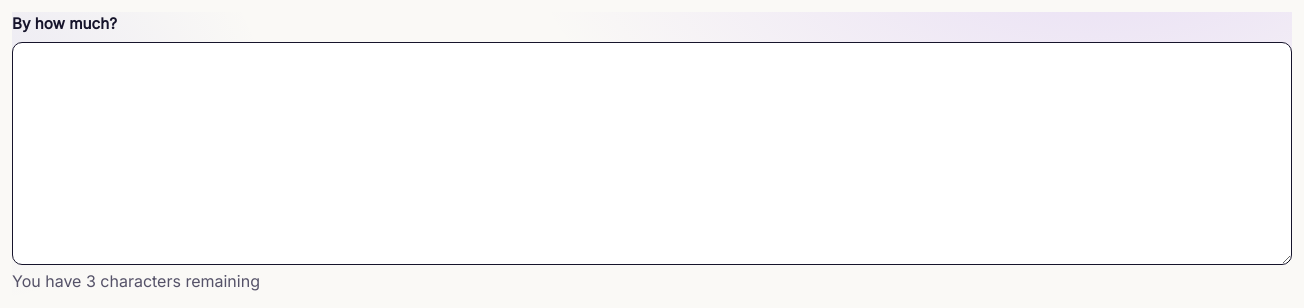
CharacterCount › says one character, not one characters
Type "ab" into the text box. click: (652, 153)
box: x1=12 y1=42 x2=1292 y2=265
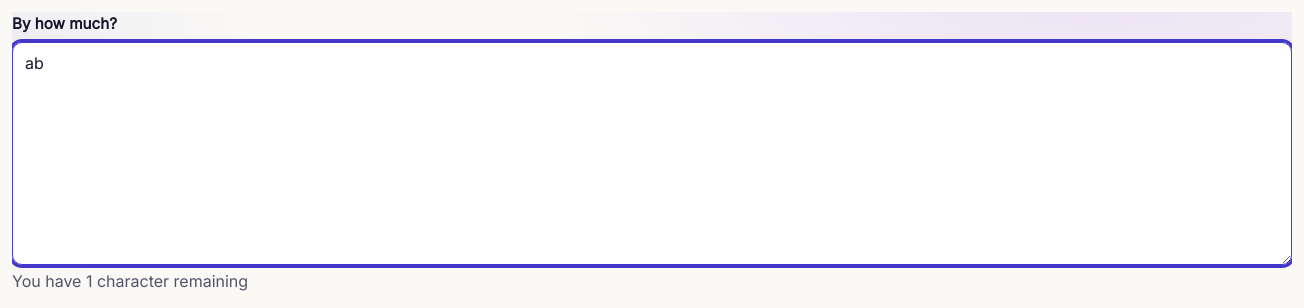
expect the text "You have 1 character remaining" is shown: met, box x1=12 y1=271 x2=248 y2=291
